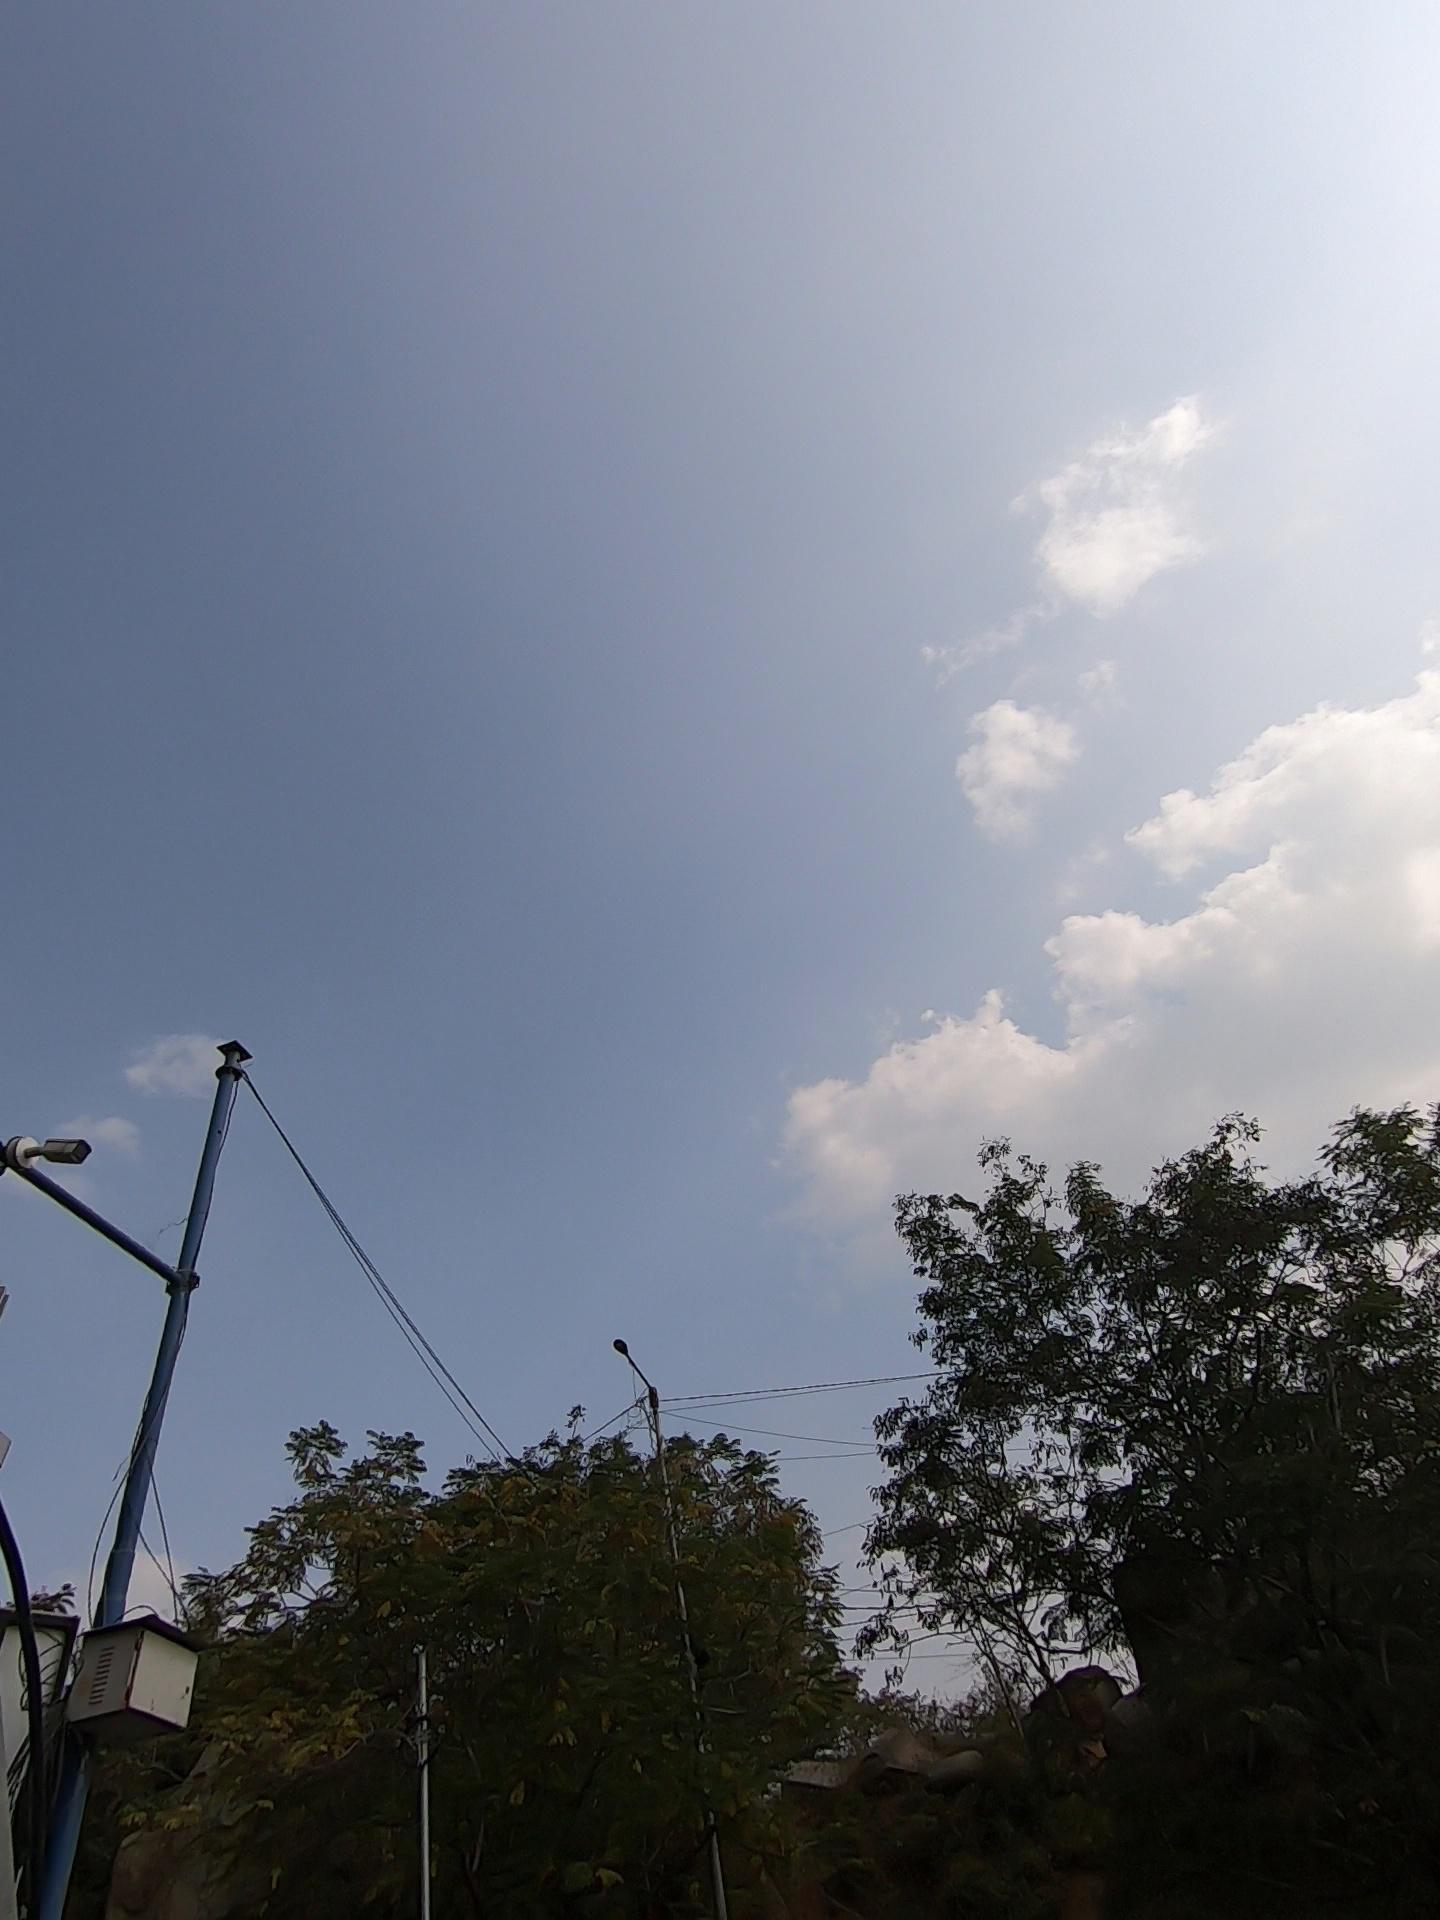off: (100, 962, 351, 1228)
